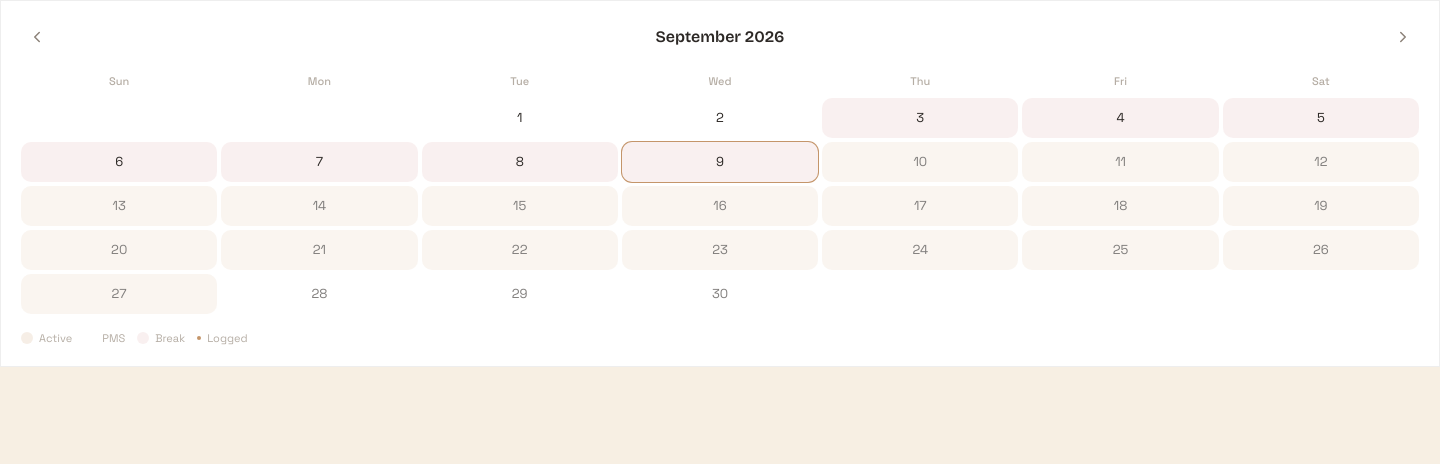
Test: CycleCalendarView › shows detail on day click
Step 1. Click the button "1" → (520, 118), box [422,98,618,138]
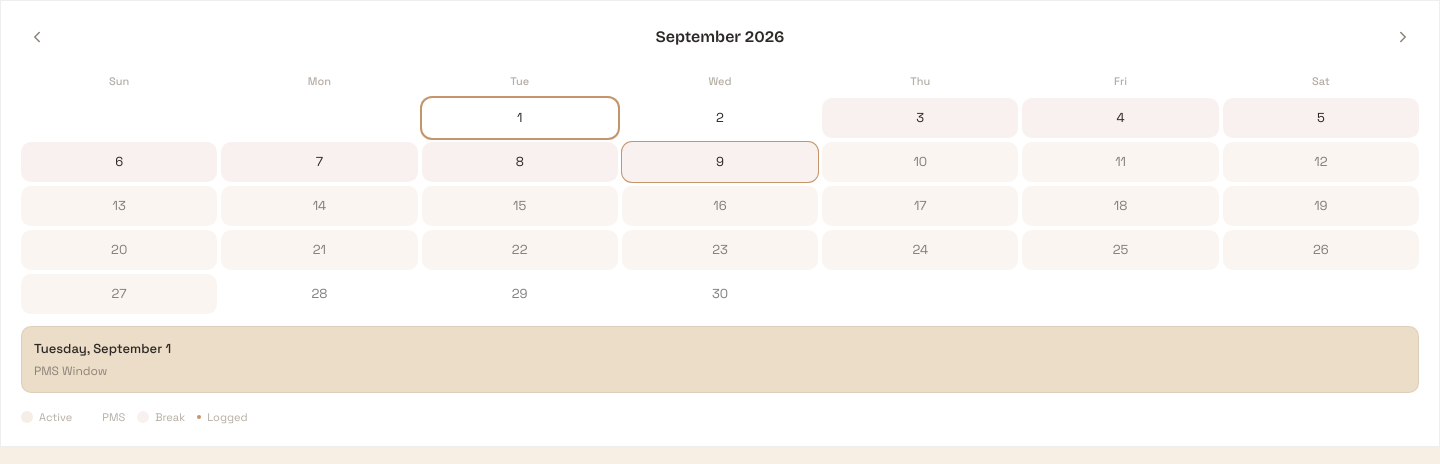
Expected: the element with test id "calendar-detail" is shown, [21,326,1419,393]
